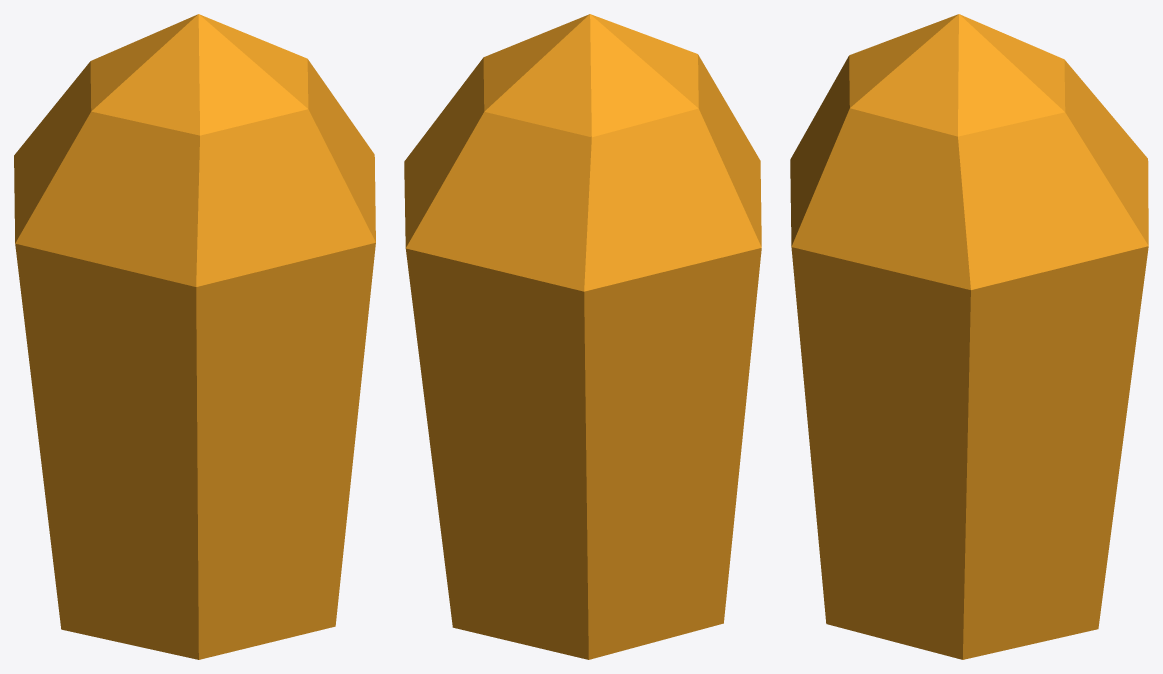
Rendered from Coral_019.glb.
3 views of the same model, side by side, from view 1: azimuth 30°, elevation 25°; view 2: azimuth 150°, elevation 25°; view 3: azimuth 270°, elevation 25° (orthographic).
Parts seen in each view (by area): view 1: Coral_019; view 2: Coral_019; view 3: Coral_019.
Boxes of the visible parts, x1,y1,x2,y2 form: Coral_019: (14,14,375,659); Coral_019: (404,14,761,659); Coral_019: (790,14,1148,659).
Size of the model in its own units: 0.1217 by 0.1891 by 0.1056.
1 material, 1 textured.
